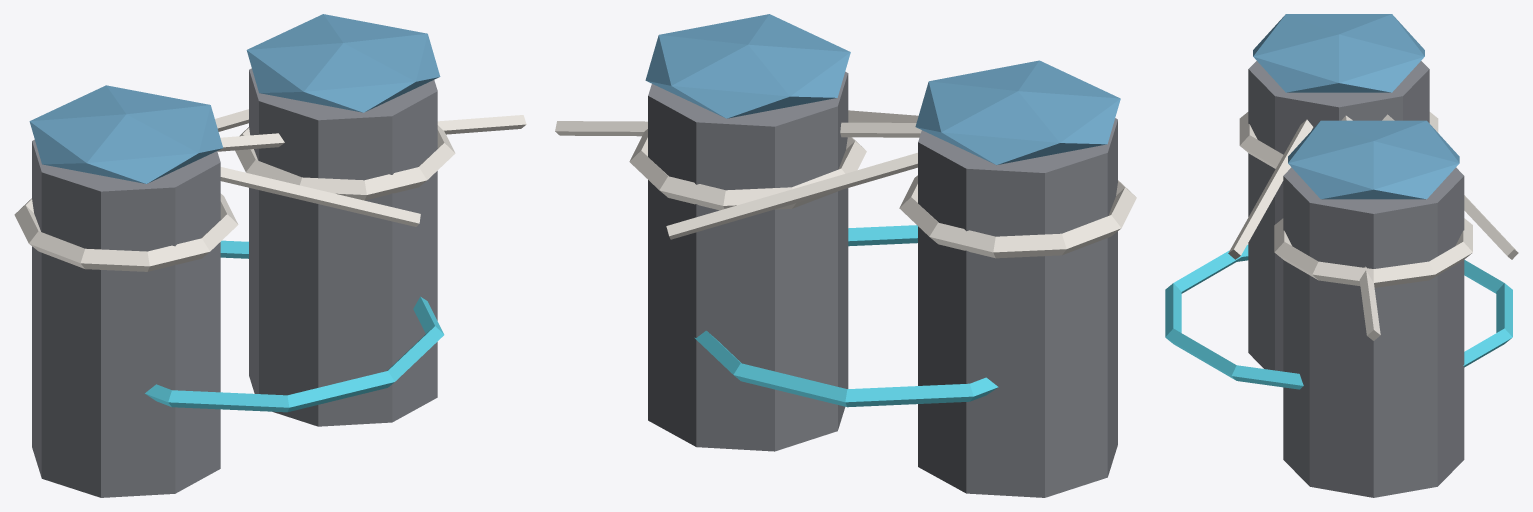
The model's file is res_silk.glb.
The picture shows the model from 3 angles, left to right: view 1: azimuth 30°, elevation 25°; view 2: azimuth 150°, elevation 25°; view 3: azimuth 270°, elevation 25°; orthographic projection. The views are drawn at different scales.
Visible parts, largest first — view 1: res_silk; view 2: res_silk; view 3: res_silk.
Boxes of the visible parts, left/top/right/bottom form: res_silk: left=14, top=14, right=526, bottom=497; res_silk: left=555, top=14, right=1136, bottom=497; res_silk: left=1165, top=14, right=1518, bottom=497.
Bounding box in the file's own units: 0.3158 × 0.202 × 0.2032.
